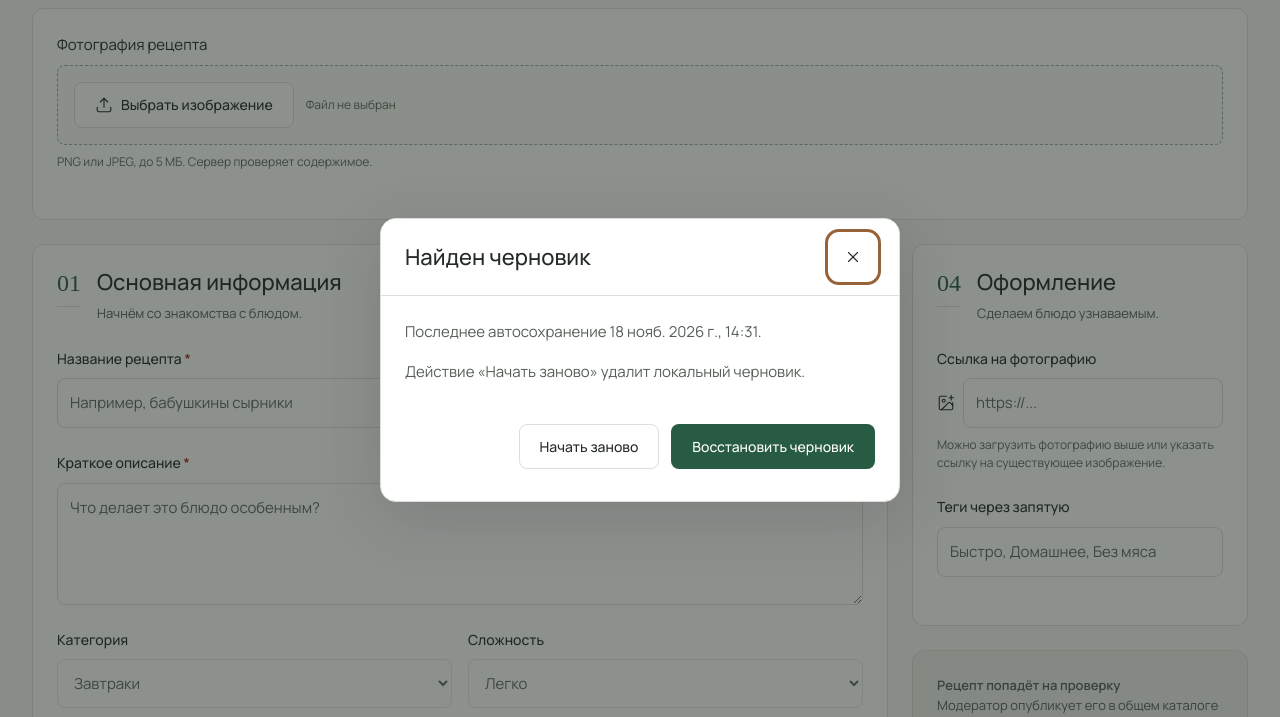
Test: записывает только последнее значение после debounce и предлагает восстановить его
Earlier steps of the test are not shown.
(page scrolled)
Check: the text "18 нояб. 2026 г., 14:31" is shown, box top-left (610, 321), bottom-right (758, 342)
Check: the field labelled "Название рецепта *" is empty, box top-left (57, 378), bottom-right (863, 428)
Click the button "Восстановить черновик" at coordinates (773, 446), box top-left (671, 424), bottom-right (875, 469)
(page scrolled)
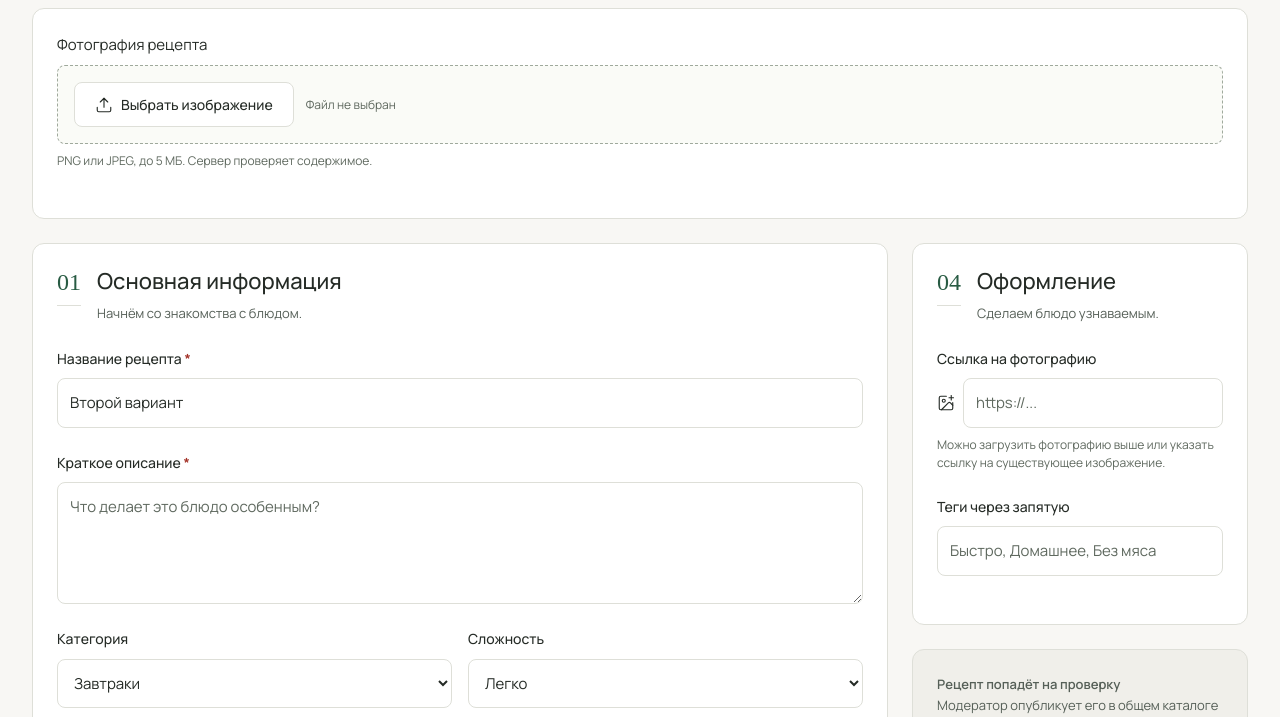
Check: the field labelled "Название рецепта *" holds "Второй вариант", box top-left (57, 378), bottom-right (863, 428)
